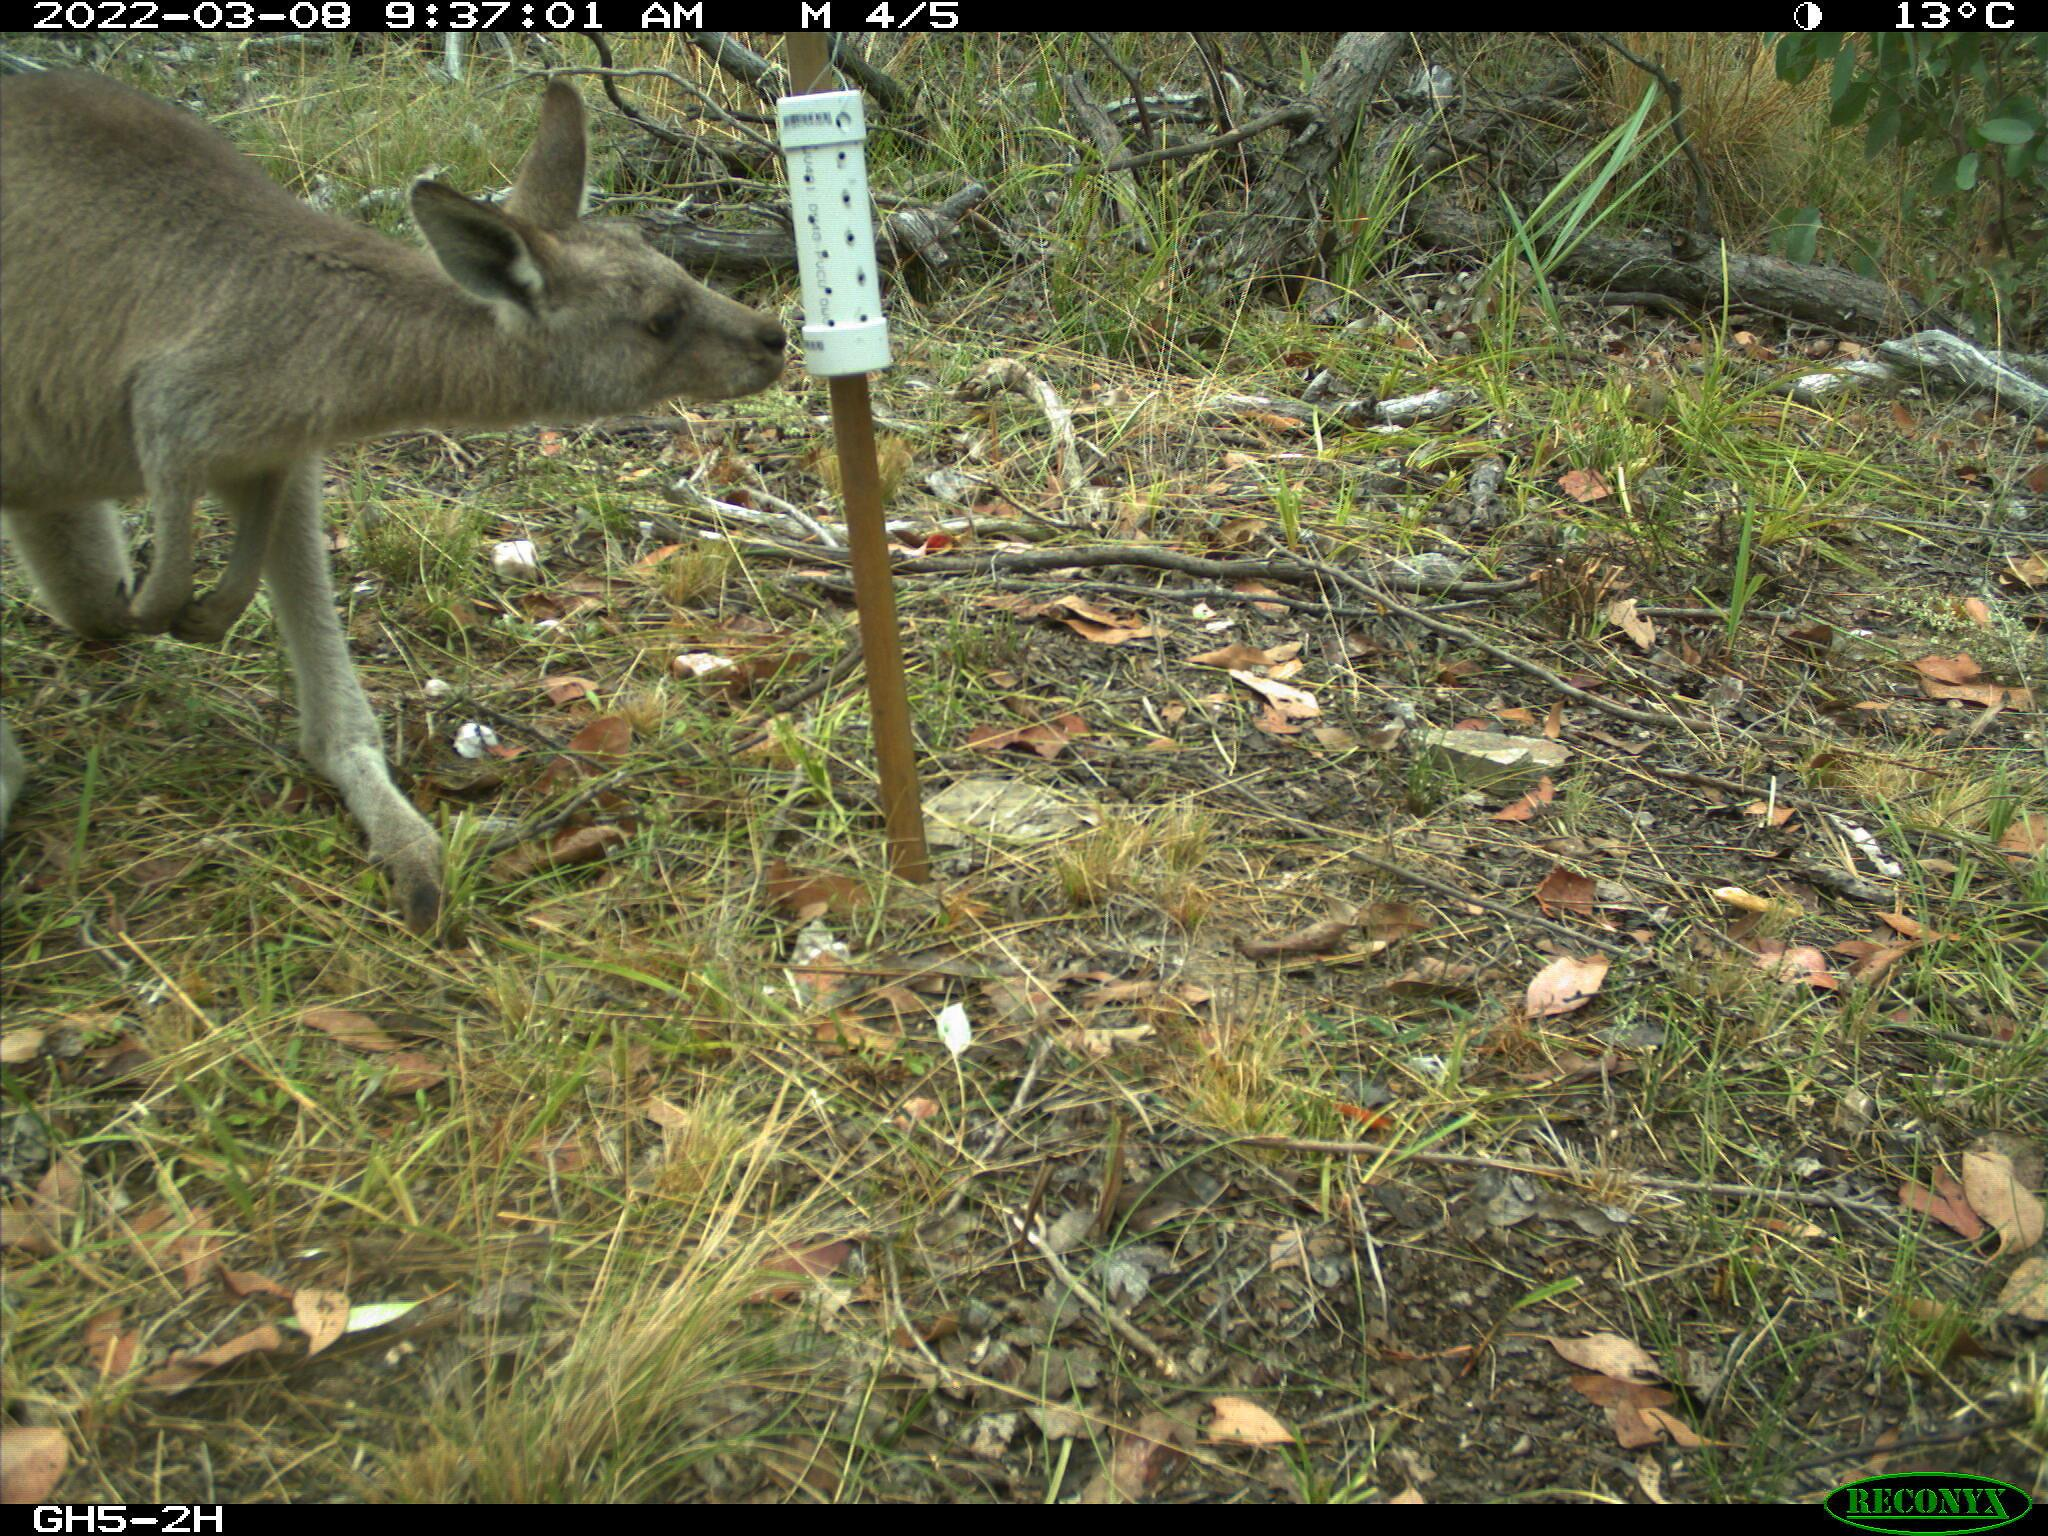Eastern grey kangaroo: (0, 73, 785, 929)
